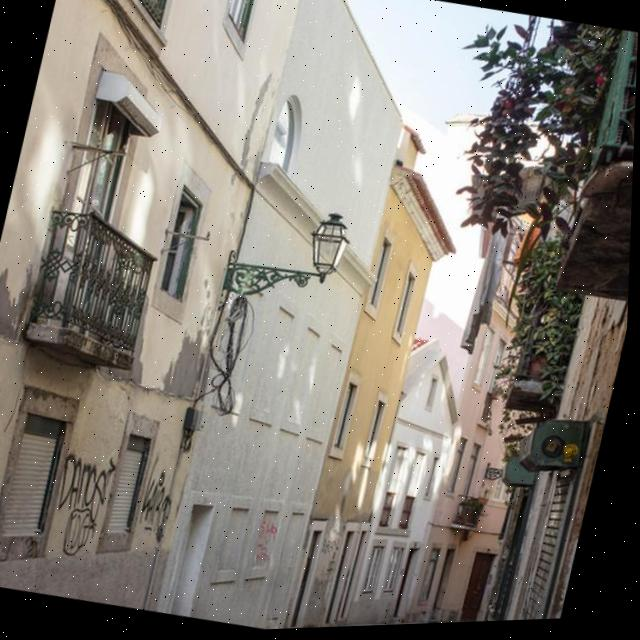building: (0, 0, 301, 618), (154, 0, 429, 633), (284, 119, 462, 629), (341, 328, 472, 626)
